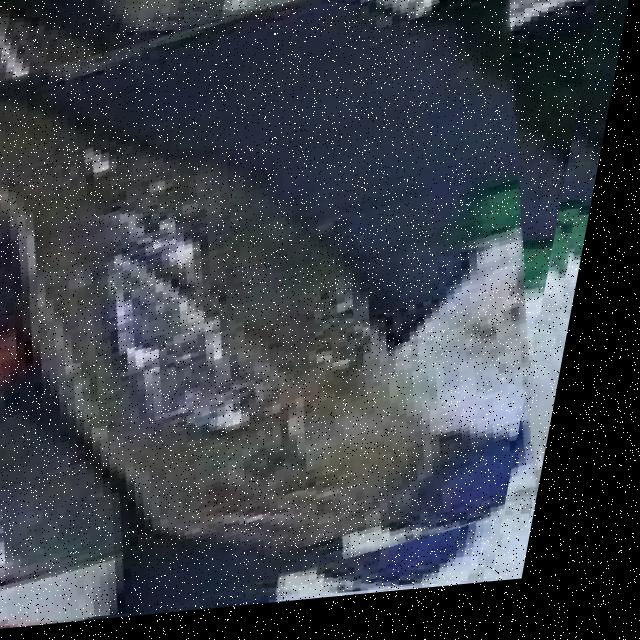litter: (0, 0, 609, 636), (255, 215, 601, 614), (0, 221, 172, 640)
